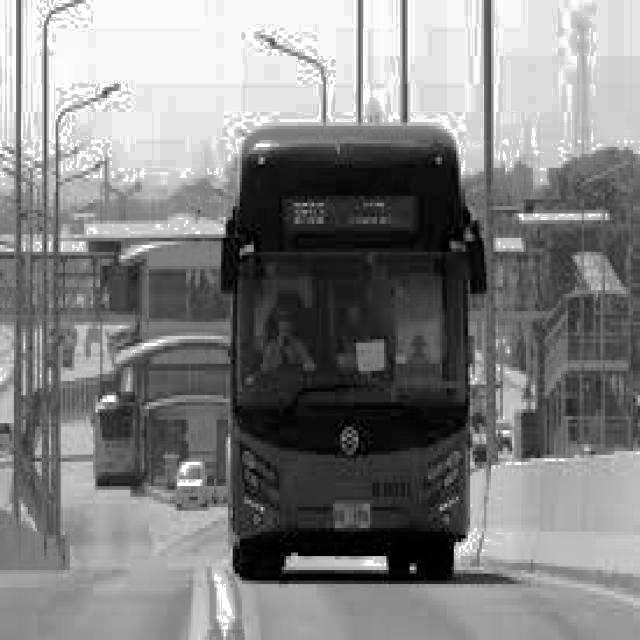Bus: (222, 103, 488, 598)
